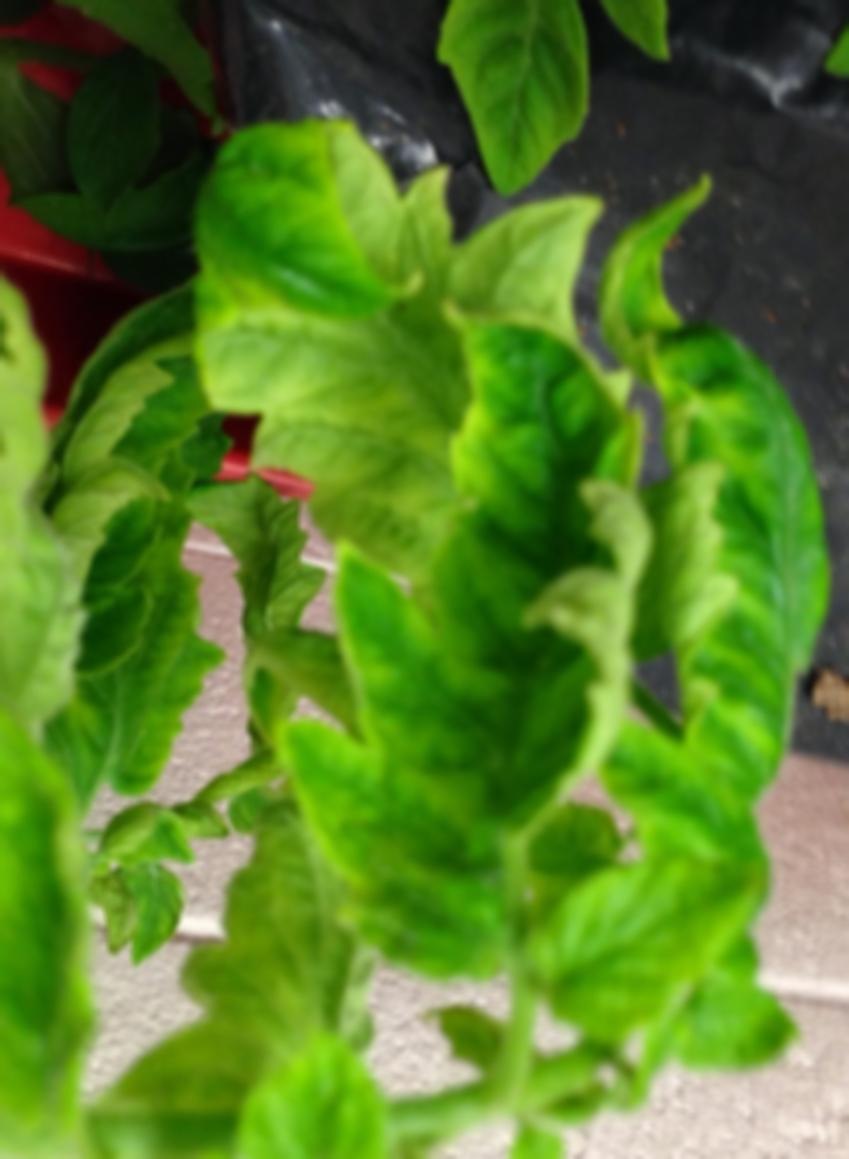Tomato leaf yellow virus: (320, 273, 663, 1035), (648, 308, 849, 1159), (0, 670, 131, 1159), (444, 0, 602, 188)
